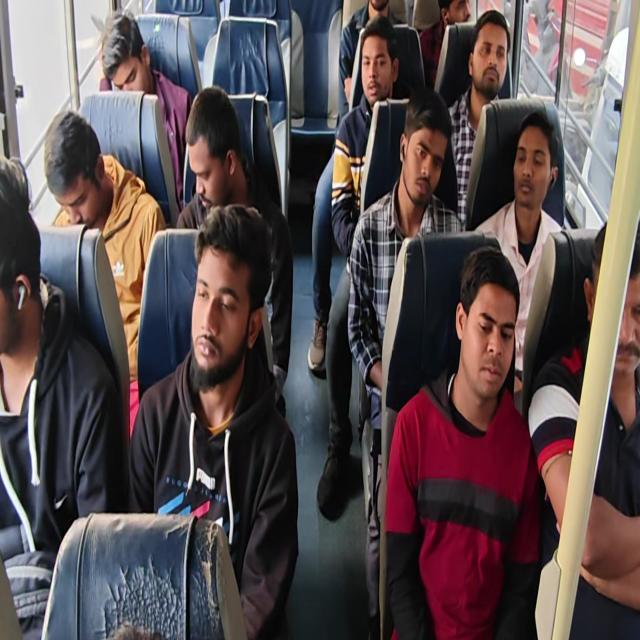person: (182, 225, 259, 388), (0, 156, 54, 366), (448, 261, 523, 400), (584, 233, 640, 385), (171, 96, 240, 216), (40, 117, 106, 226), (507, 124, 554, 212), (399, 118, 441, 205), (104, 20, 149, 101), (357, 24, 397, 103), (474, 29, 514, 96), (431, 0, 472, 40), (360, 0, 394, 24)
